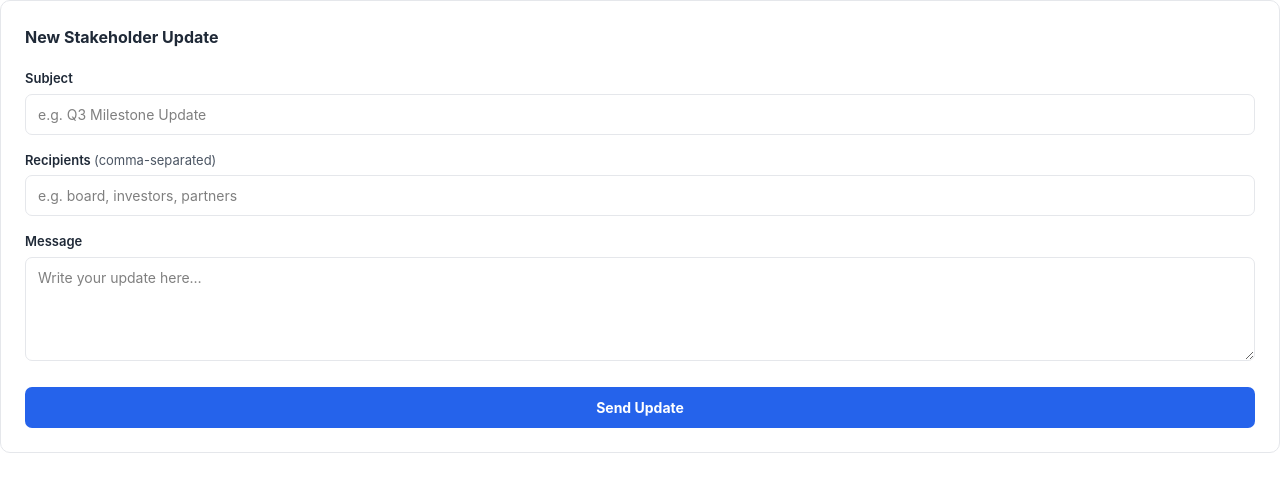
Test: Compose — input validation › shows a content error when the message field is empty
Type "hi" into the field with test id "input-subject" at [640, 114], box top-left (25, 94), bottom-right (1255, 134)
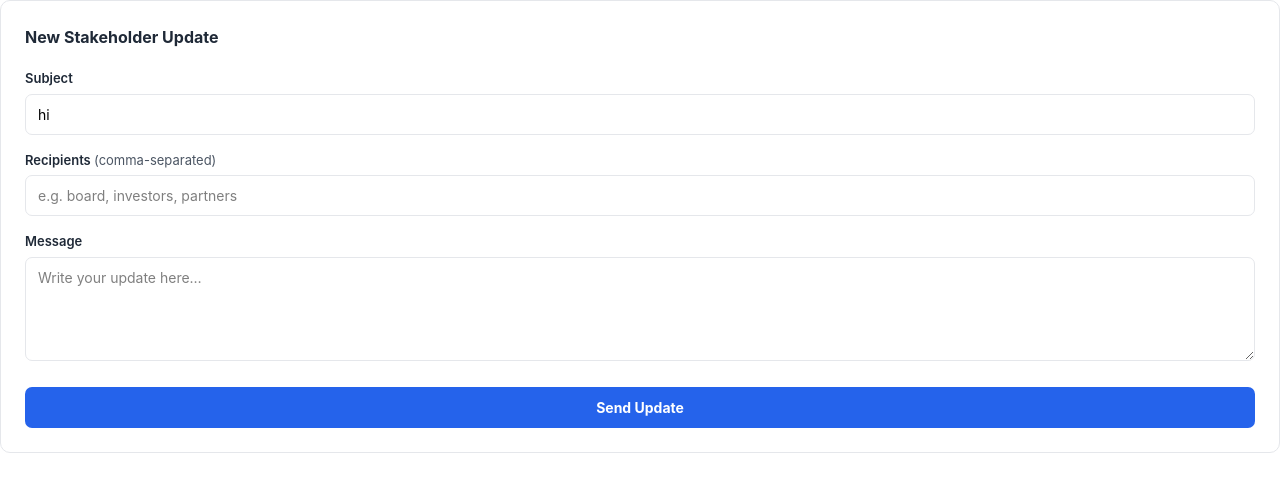
Type "board" into the field with test id "input-recipients" at [640, 196], box top-left (25, 175), bottom-right (1255, 216)
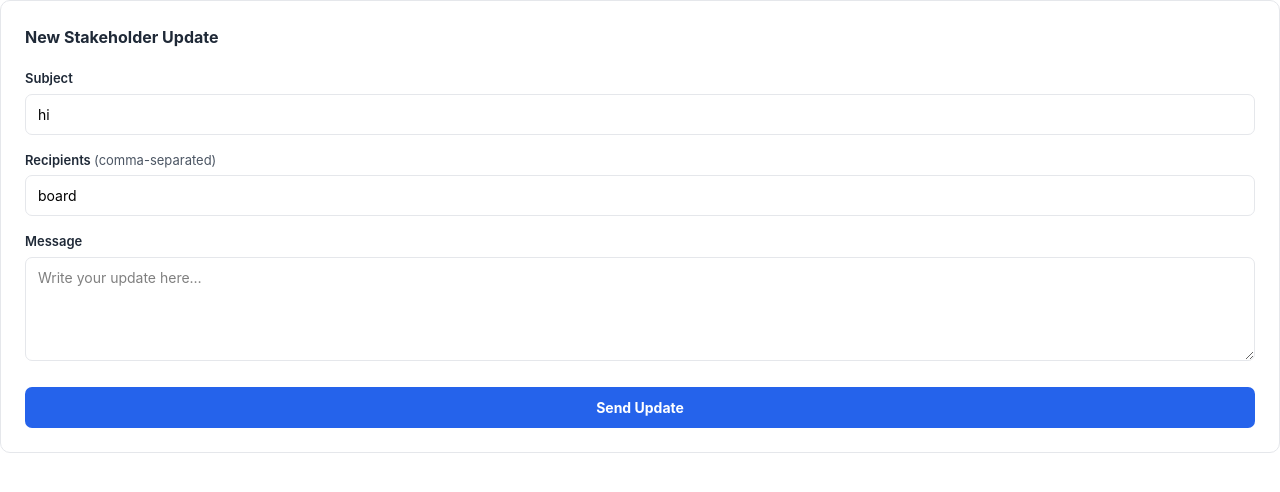
Click the button with test id "btn-send" at [640, 407], box top-left (25, 386), bottom-right (1255, 428)
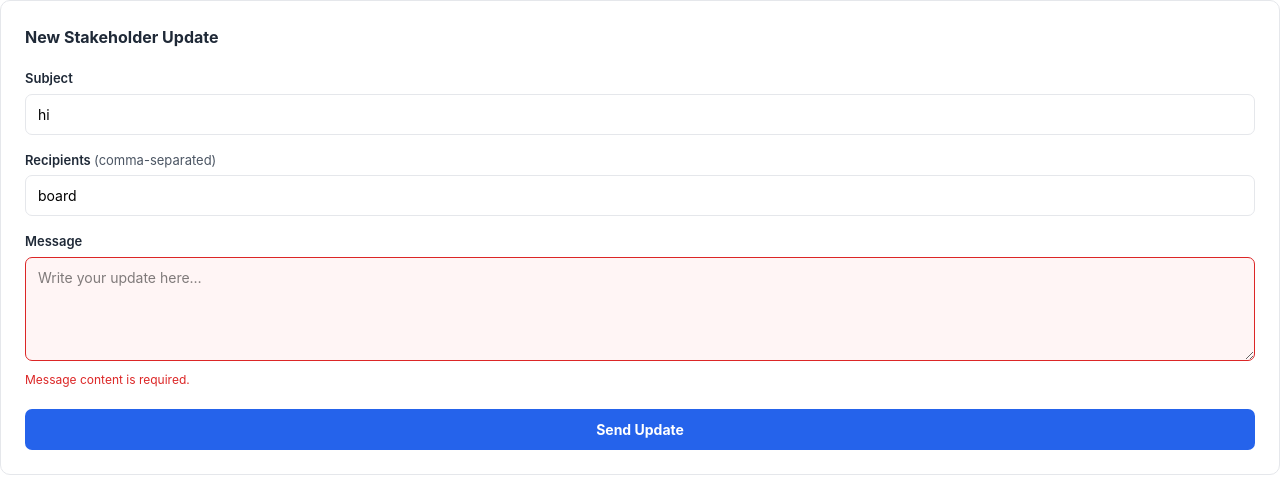
Expected: the text "Message content is required." is shown, top-left (25, 372), bottom-right (190, 386)
